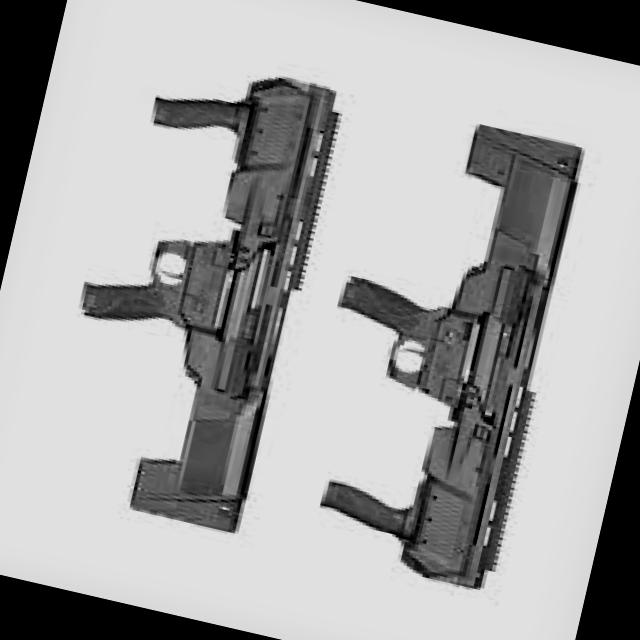long weapon: (34, 57, 356, 552), (306, 90, 599, 615)
